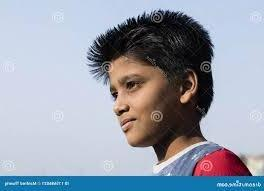Human: (86, 20, 244, 172)
